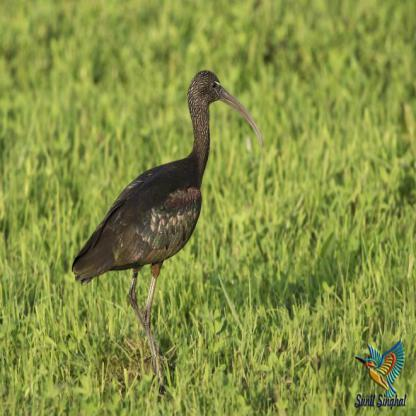Burung: (70, 69, 264, 383)
